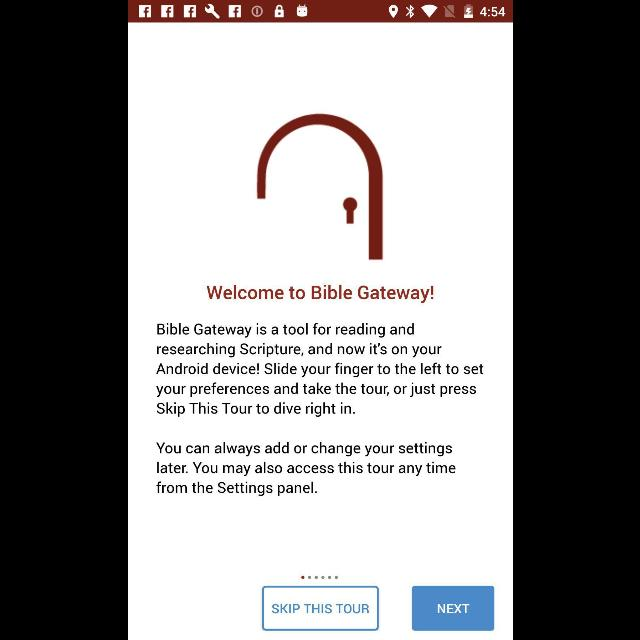image: (255, 113, 383, 261)
pageindicator: (300, 575, 338, 579)
text: (155, 323, 482, 417), (155, 442, 455, 496), (205, 284, 432, 304)
textbutton: (262, 586, 378, 630), (411, 586, 493, 630)
uppertaskbar: (128, 1, 512, 23)
